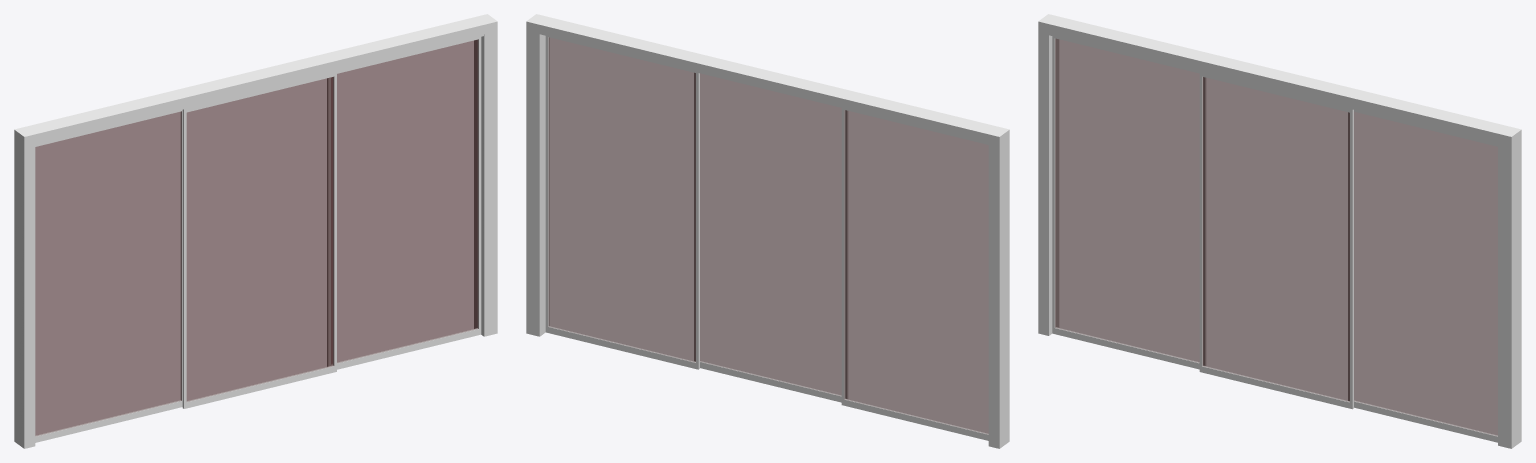
File: Wall With Windows Set 10.FBX
3 views of the same model, side by side, from view 1: azimuth 30°, elevation 25°; view 2: azimuth 150°, elevation 25°; view 3: azimuth 330°, elevation 25° (orthographic).
Parts seen in each view (by area): view 1: Glass Plane.002, Glass Plane.001, Glass Plane, wall with windows set 10; view 2: Glass Plane.001, Glass Plane, Glass Plane.002, wall with windows set 10; view 3: Glass Plane.002, Glass Plane, Glass Plane.001, wall with windows set 10.
Part boxes in pixels (x1,y1,x2,y2): Glass Plane.002: (182, 72, 336, 408); Glass Plane.001: (327, 37, 481, 369); Glass Plane: (35, 109, 182, 442); wall with windows set 10: (14, 14, 497, 448); Glass Plane.001: (545, 36, 699, 369); Glass Plane: (841, 108, 988, 440); Glass Plane.002: (694, 73, 848, 402); wall with windows set 10: (526, 14, 1009, 448); Glass Plane.002: (1199, 72, 1353, 409); Glass Plane: (1052, 36, 1206, 369); Glass Plane.001: (1348, 110, 1497, 442); wall with windows set 10: (1038, 14, 1521, 448).
Size of the model in its own units: 400 by 252 by 15.
